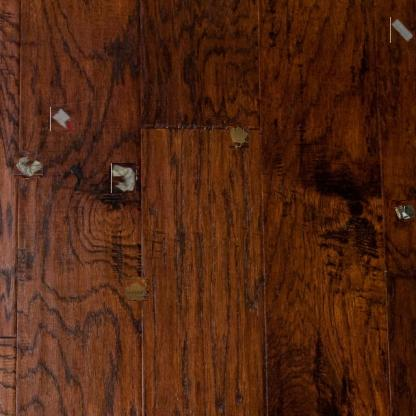dirty: (110, 165, 138, 192), (15, 152, 41, 180), (51, 107, 75, 132), (390, 17, 413, 43), (390, 200, 416, 222)
liquid: (126, 278, 148, 300), (229, 126, 249, 150)
